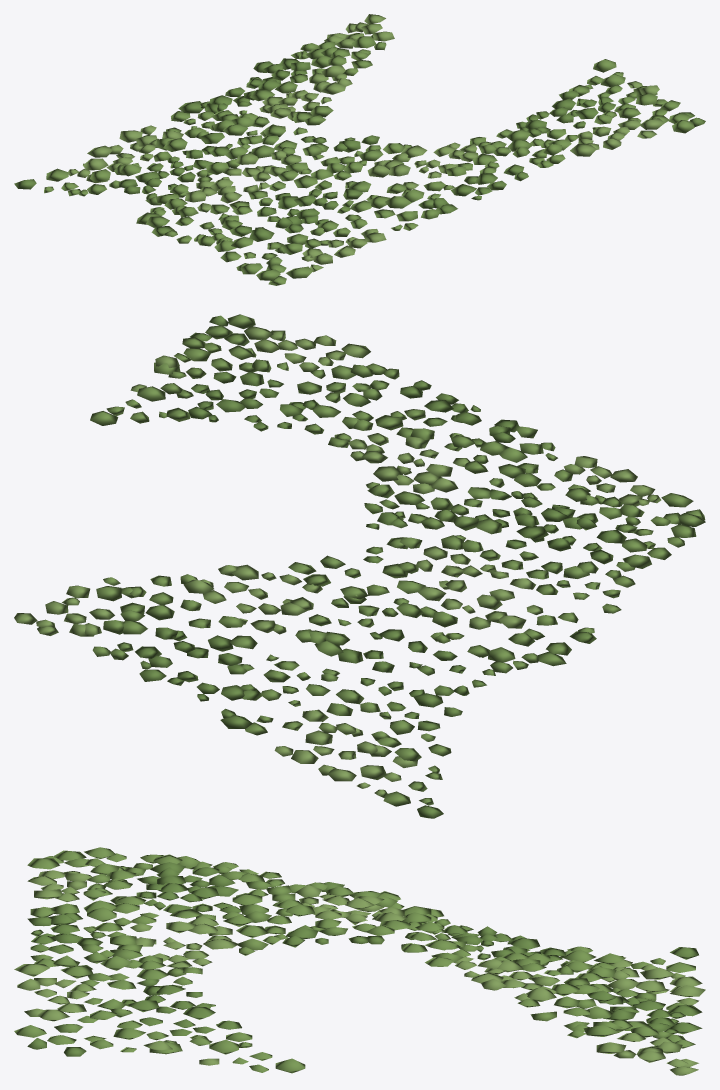
Rendered from canopy-1--3--1.glb.
3 renders of one model, top to bottom at view 1: azimuth 30°, elevation 25°; view 2: azimuth 150°, elevation 25°; view 3: azimuth 270°, elevation 25°, orthographic. The views are drawn at different scales.
Size of the model in its own units: 518 by 165 by 522.
Materials: 1 (1 with a texture image).
